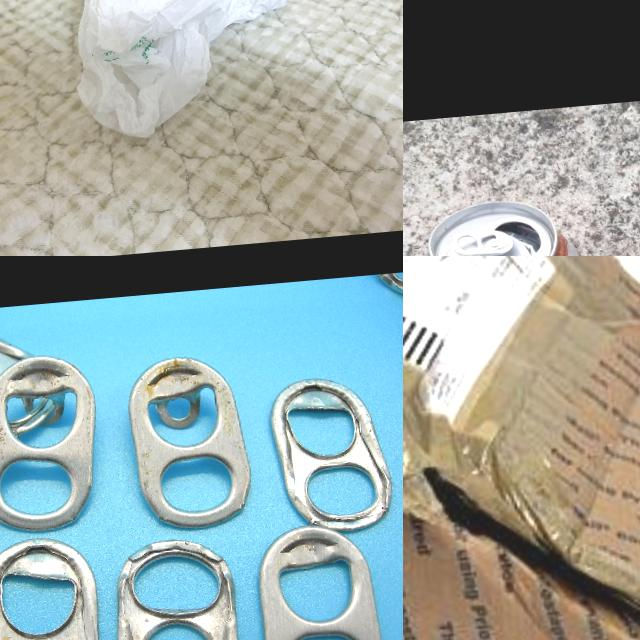aba de lata: (122, 352, 255, 534), (266, 370, 398, 537), (0, 351, 106, 536), (253, 518, 388, 640), (105, 534, 248, 640), (0, 531, 111, 640), (0, 314, 64, 437), (450, 224, 513, 254)
lata: (411, 192, 601, 256)
papelão: (403, 256, 640, 640)
sacola plástica: (29, 0, 319, 149)
